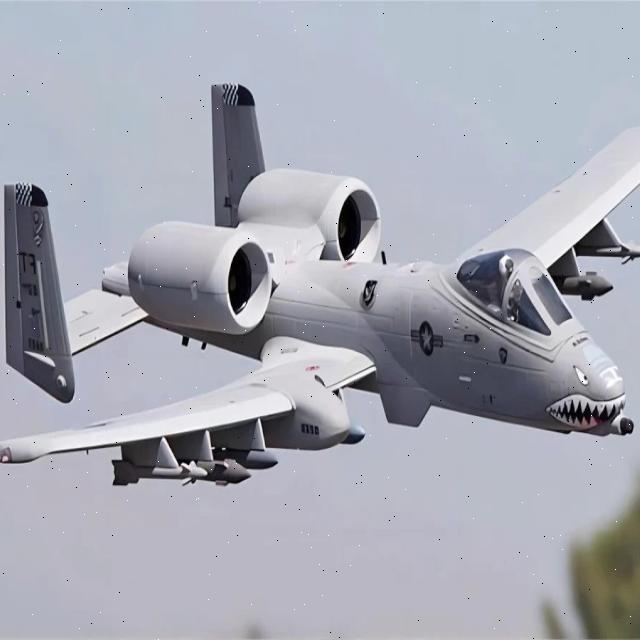A10: (0, 72, 640, 532)
